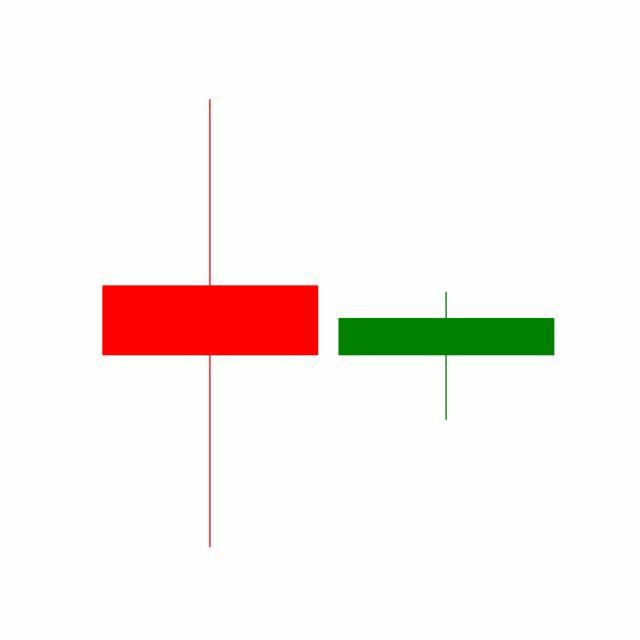Dragonfly Doji: (328, 291, 566, 423)
